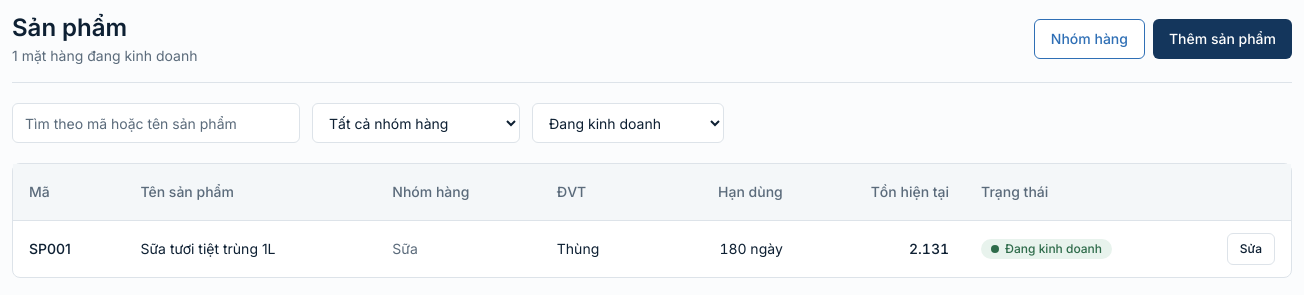
Scenario: ProductsPage (AC8) › hiển thị đúng các cột theo mockup, nút Thêm/Sửa khi có quyền catalog.manage và lọc được trạng thái
Expected: the text "SP001" is shown, [13, 220, 124, 276]
Expected: the text "Sữa tươi tiệt trùng 1L" is shown, [124, 220, 376, 276]
Select "Ngừng kinh doanh" in the dropdown named "Lọc theo trạng thái". click: (628, 123)
box: [532, 103, 724, 143]
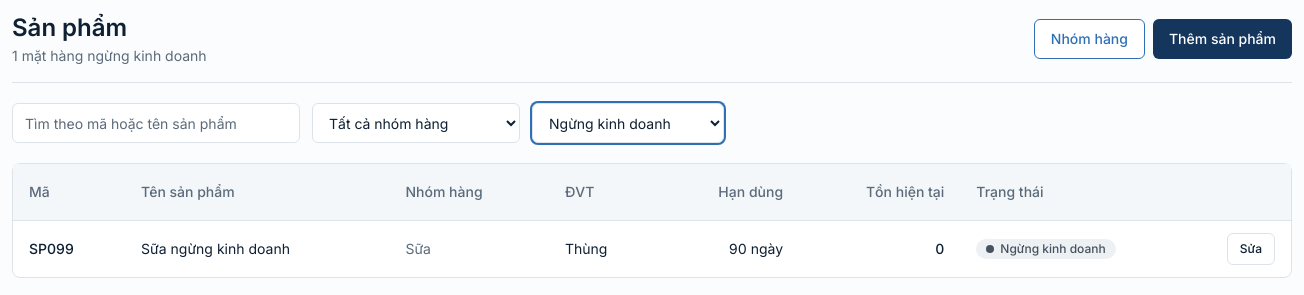
Expected: the text "SP099" is shown, [13, 220, 125, 276]
